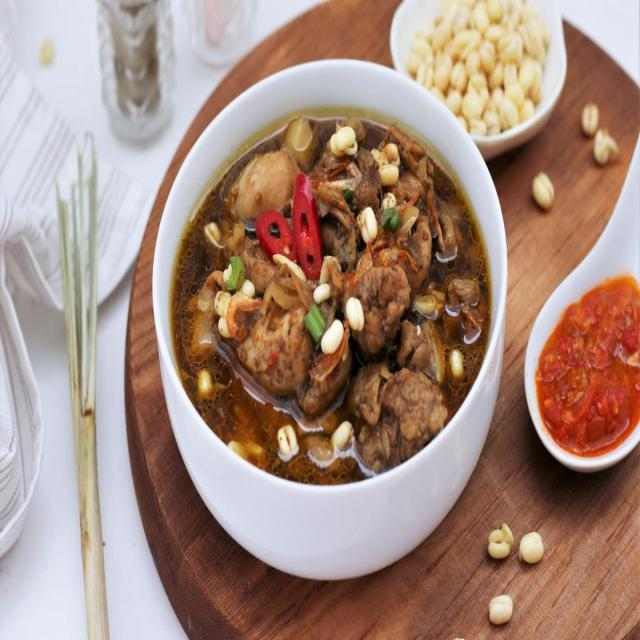Rawon: (174, 113, 483, 481)
